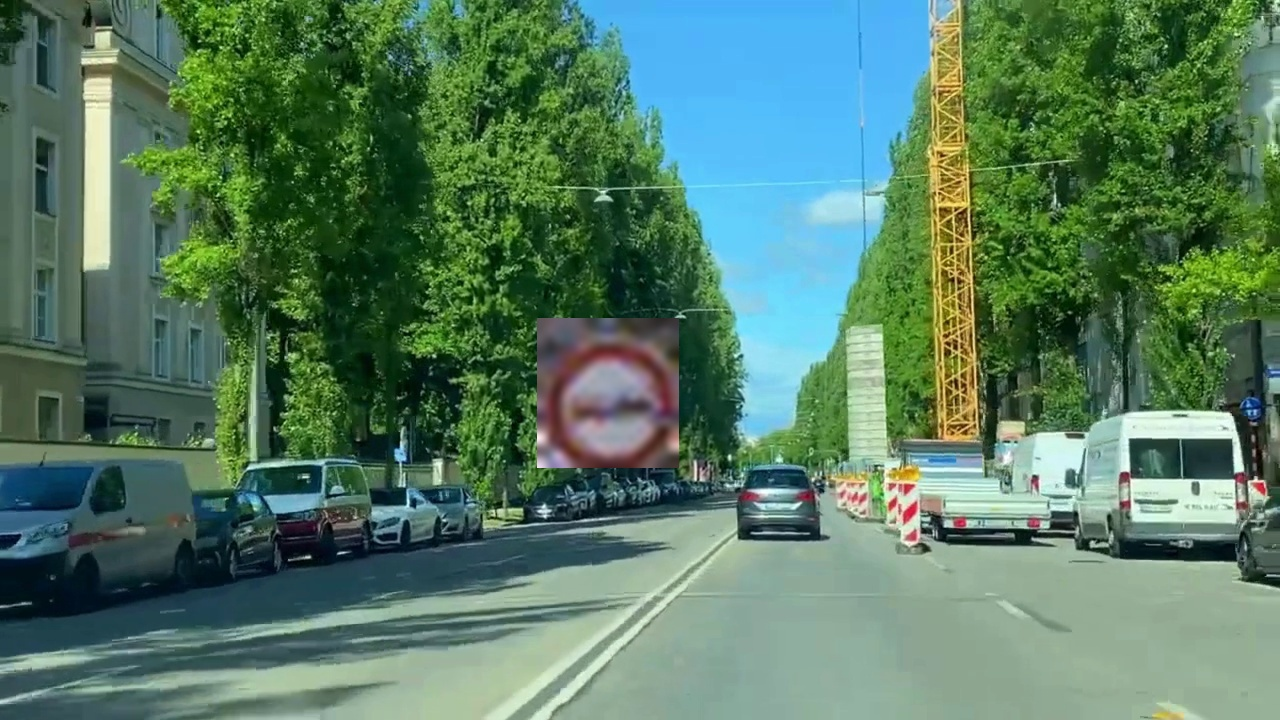No passing: (537, 318, 679, 468)
